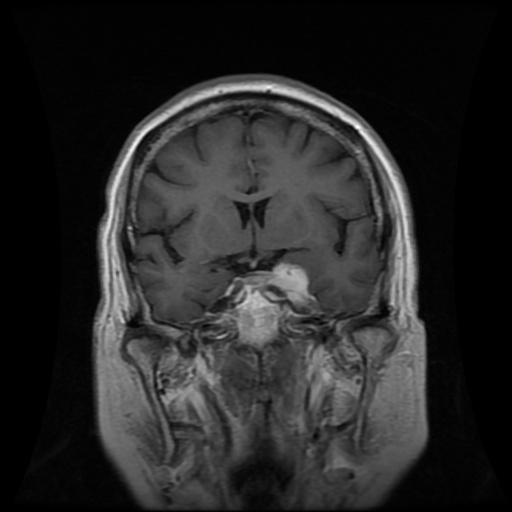meningioma: (268, 261, 308, 301)
